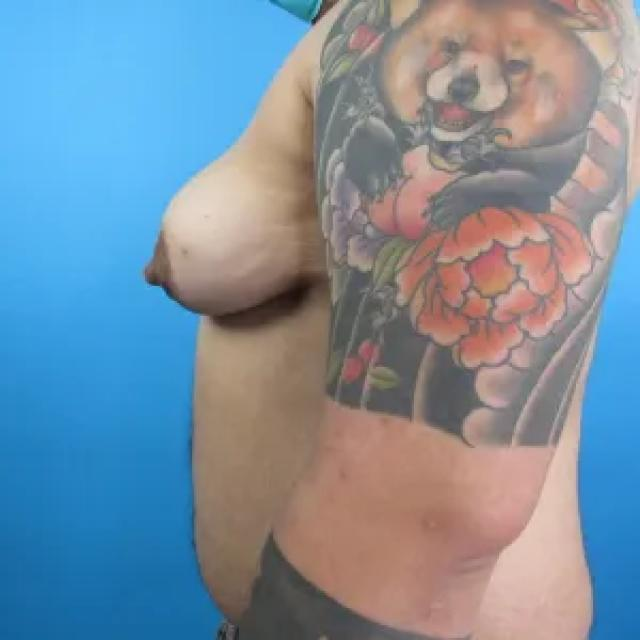Seno ileso: (137, 51, 356, 342)
